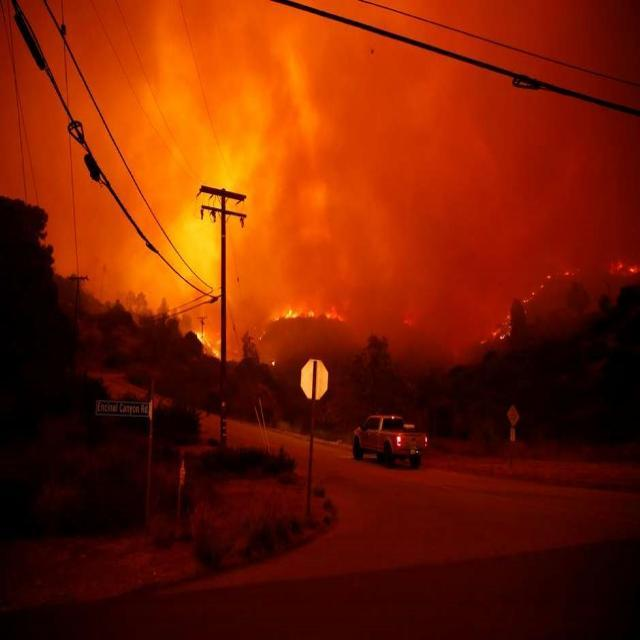Fire: (134, 21, 332, 289), (472, 266, 578, 341), (266, 304, 343, 326), (188, 324, 225, 362), (608, 258, 640, 279)
